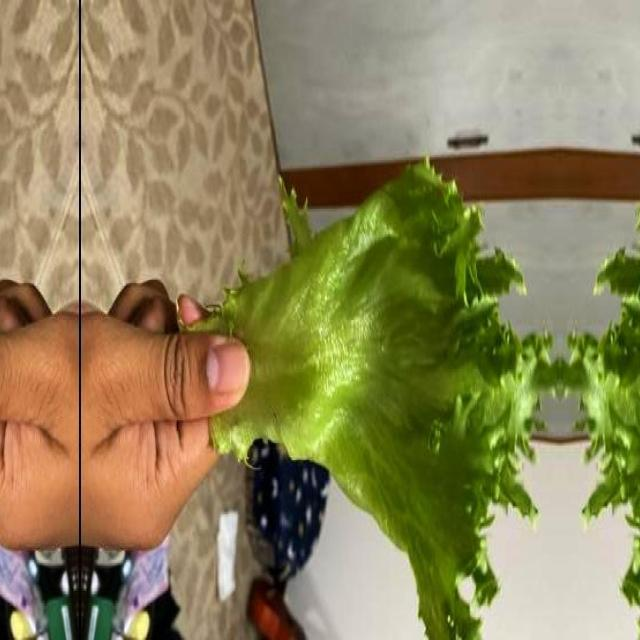healthy: (189, 143, 560, 640), (559, 143, 640, 640)
